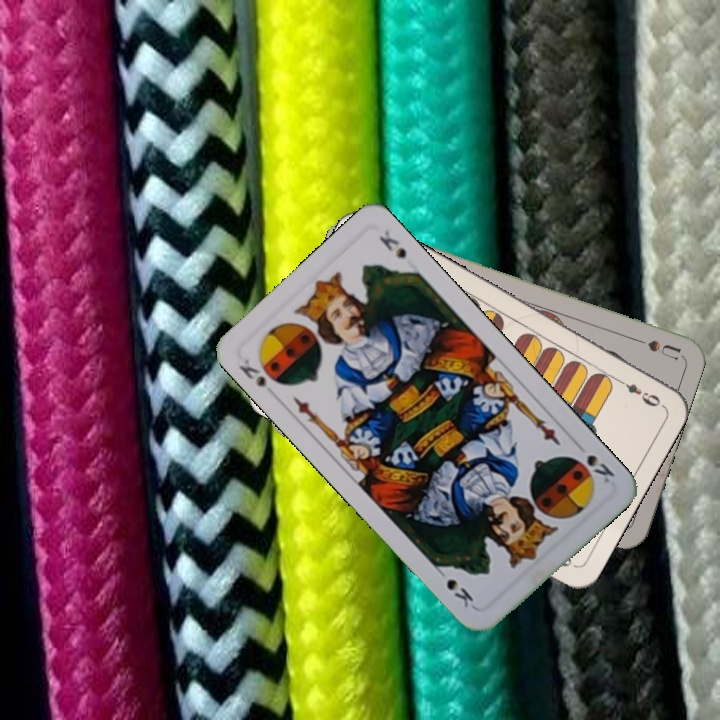E9: (611, 374, 665, 410)
SK: (234, 354, 286, 391), (582, 450, 617, 488)
SU: (624, 331, 683, 362)
